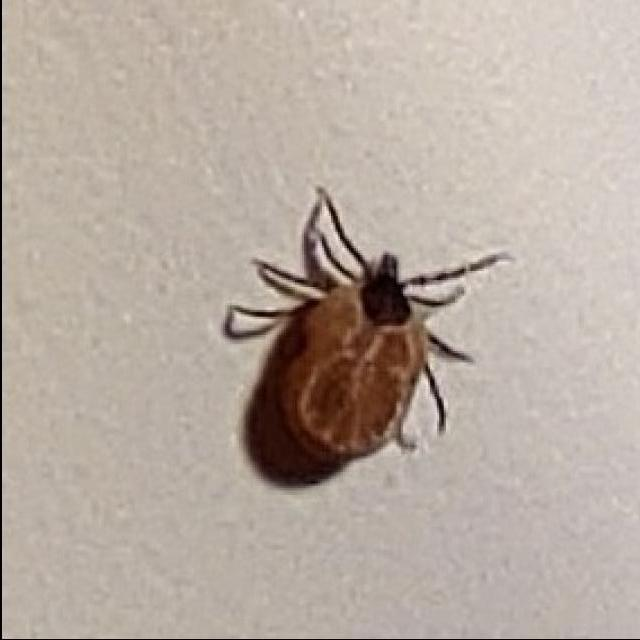Ixodes Ricinus-F-Fed: (219, 185, 509, 471)
